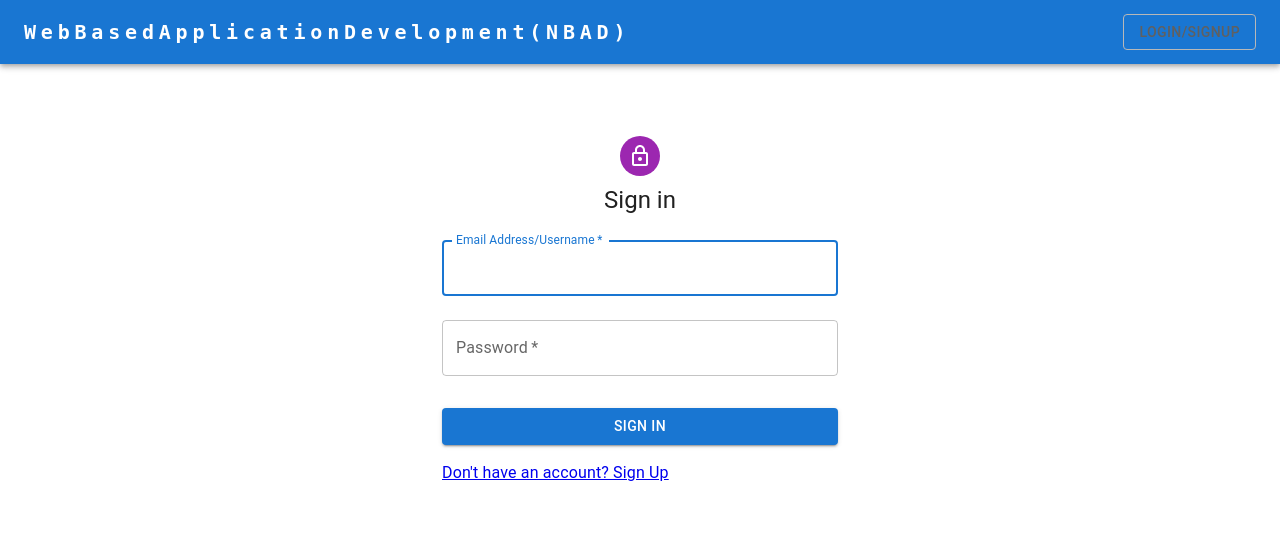
Test: Login Page › Should Show Validation Error when existing user Signup
Type "sai@gmail.com" into the field with id "email".
click(640, 268); type("sai@gmail.com")  # box [442,240,838,296]
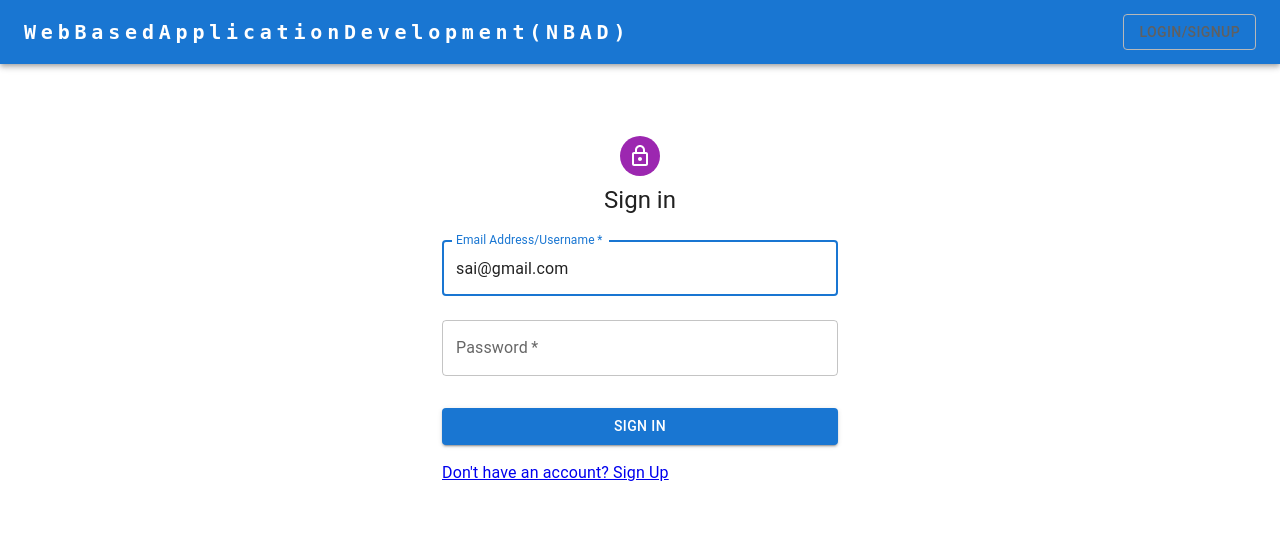
Type "1234" into the password field labelled "Password *".
click(640, 348); type("1234")  # box [442,320,838,376]
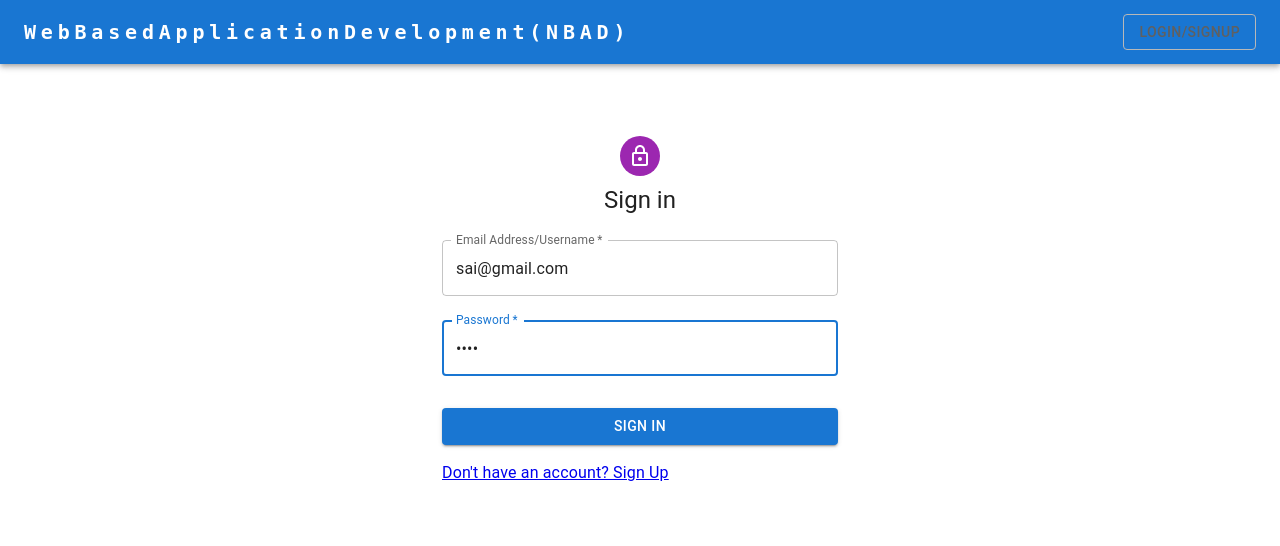
Click the button with id "submit".
click(640, 427)  # box [442,408,838,445]
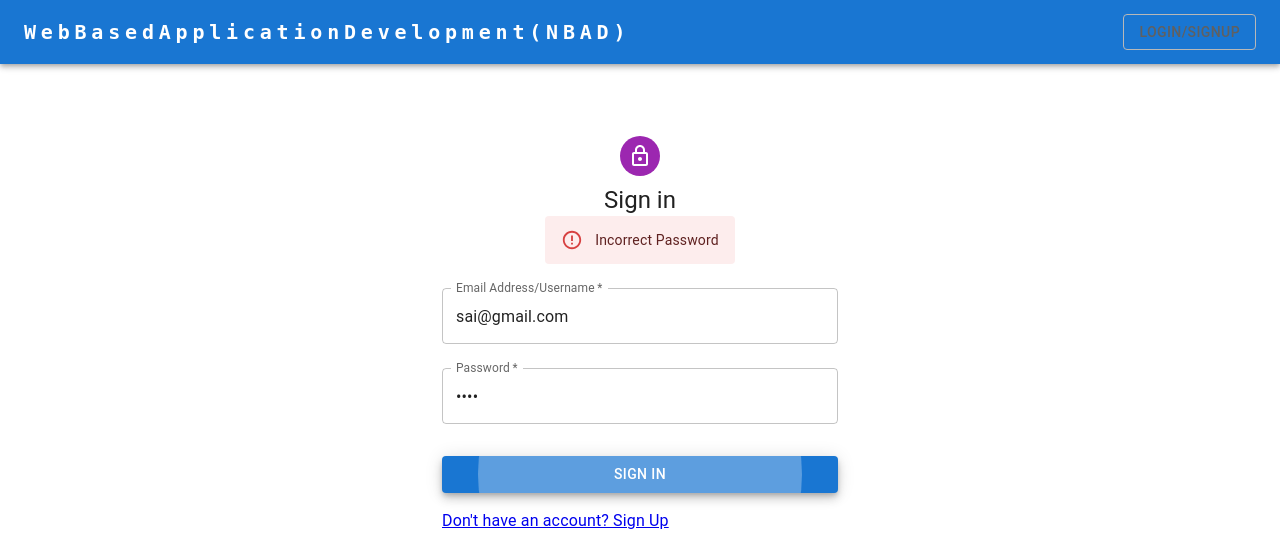
Now the message with id "errormessage" reads "Incorrect Password", box [545,216,735,264]
